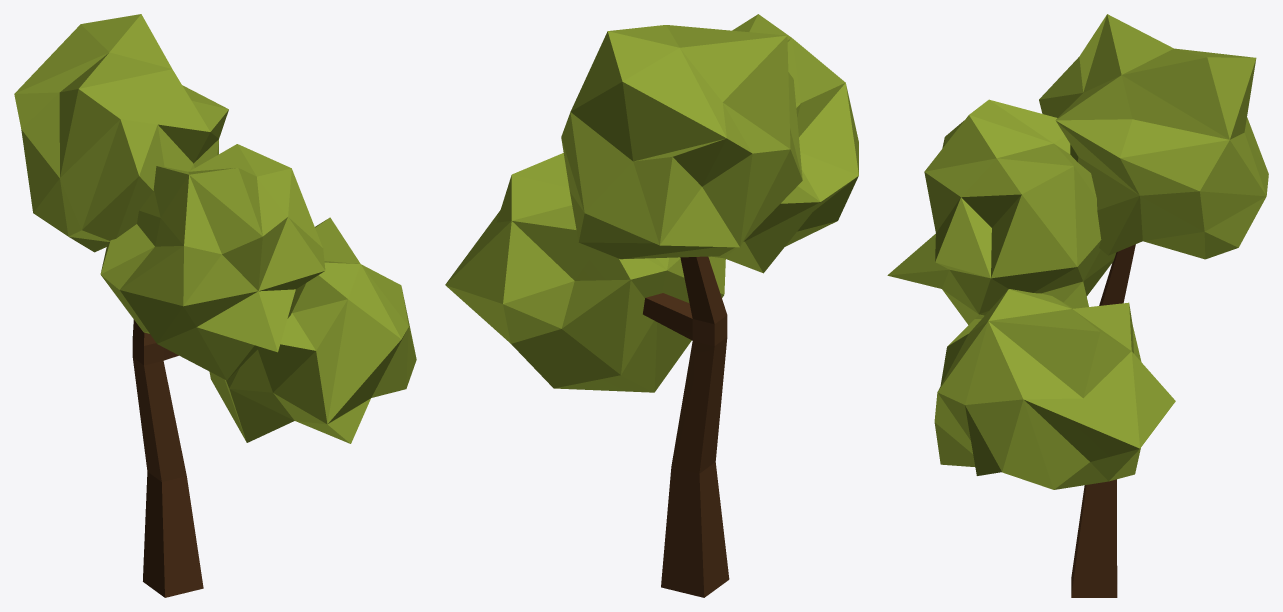
File: Tree_A.fbx
The picture shows the model from 3 angles, left to right: view 1: azimuth 30°, elevation 25°; view 2: azimuth 150°, elevation 25°; view 3: azimuth 270°, elevation 25°; orthographic projection. The views are drawn at different scales.
Visible parts, largest first — view 1: Tree A; view 2: Tree A; view 3: Tree A.
Boxes of the visible parts, box(x1,y1,x2,y2) form: Tree A: box(14, 14, 416, 597); Tree A: box(445, 14, 858, 597); Tree A: box(887, 14, 1268, 597).
Bounding box in the file's own units: 622 × 1035 × 660.
